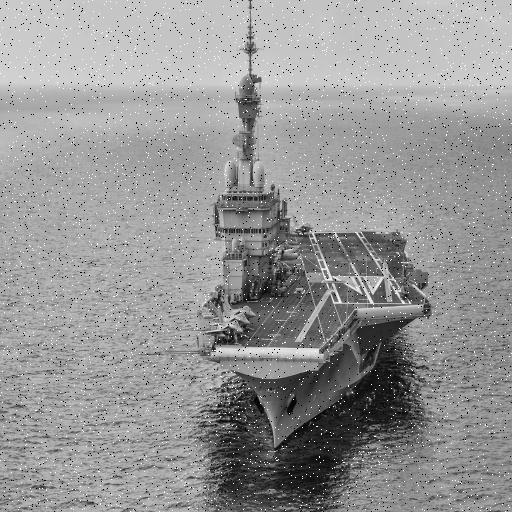Portanaves: (196, 1, 436, 457)
